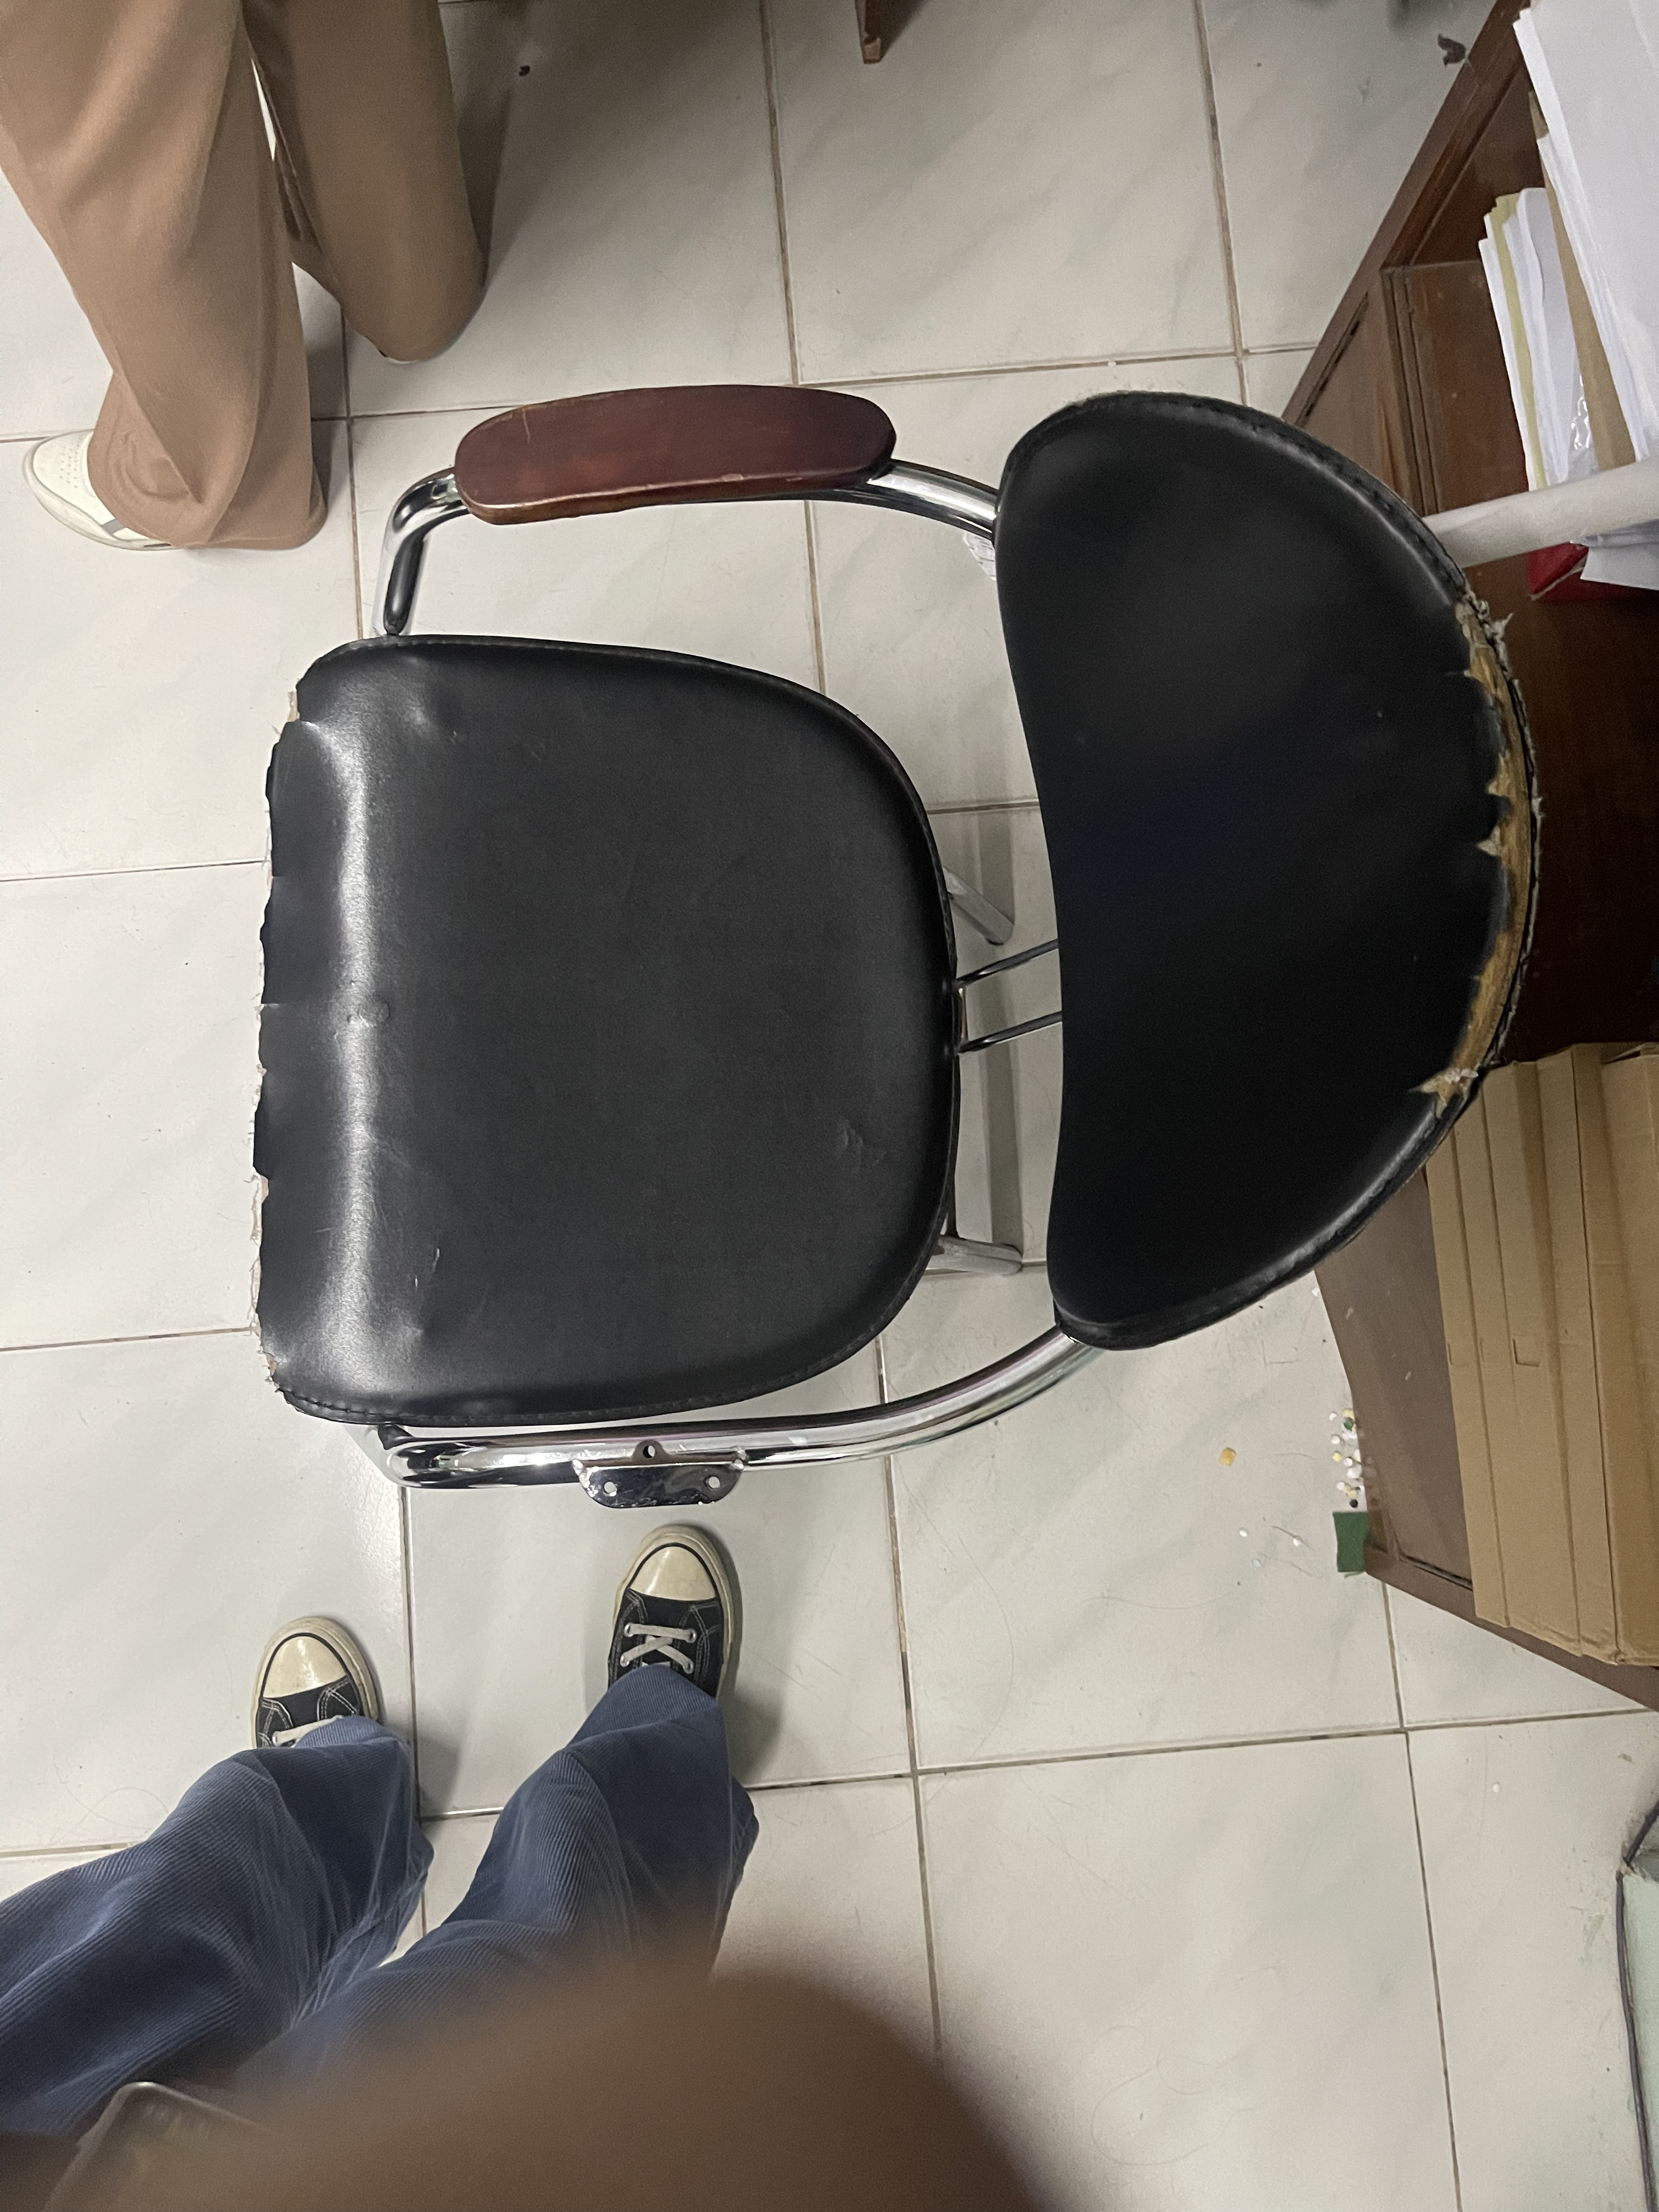chair1: (263, 383, 1547, 1507)
